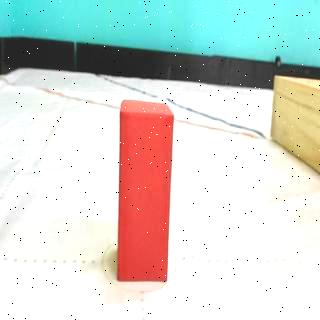redbox: (118, 98, 174, 282)
